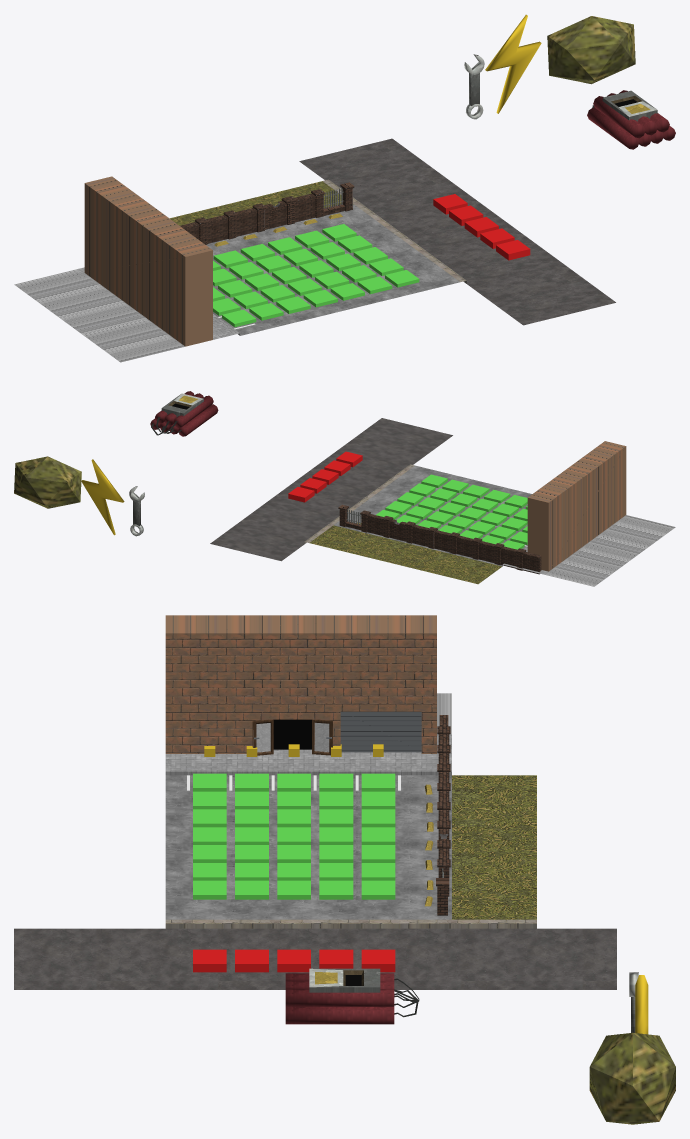
File: Patio.fbx
3 renders of one model, top to bottom at view 1: azimuth 30°, elevation 25°; view 2: azimuth 150°, elevation 25°; view 3: azimuth 270°, elevation 25°, orthographic. The views are drawn at different scales.
Visible parts, largest first — view 1: Plane, Plane.001, Cuspe, Explosivo, Energia, Boca e Estria; view 2: Plane, Plane.001, Cuspe, Explosivo, Energia, Boca e Estria; view 3: Plane, Plane.001, Cuspe, Explosivo, Cube.030, Cube.037, Cube.024, Energia, Cube.011.
Part boxes in pixels (x1,y1,x2,y2): Plane: (14, 138, 615, 362); Plane.001: (84, 176, 212, 346); Cuspe: (547, 16, 635, 84); Explosivo: (587, 90, 675, 149); Energia: (485, 14, 541, 113); Boca e Estria: (464, 54, 484, 119); Plane: (210, 418, 675, 586); Plane.001: (527, 441, 626, 571); Cuspe: (14, 456, 81, 508); Explosivo: (150, 391, 218, 436); Energia: (81, 459, 124, 535); Boca e Estria: (129, 486, 144, 536); Plane: (14, 693, 616, 989); Plane.001: (165, 615, 436, 753); Cuspe: (589, 1032, 675, 1124); Explosivo: (285, 968, 419, 1024); Cube.030: (235, 949, 268, 972); Cube.037: (193, 949, 226, 972); Cube.024: (277, 949, 310, 972); Energia: (635, 975, 648, 1034); Cube.011: (361, 949, 395, 972).
Bounding box in the file's own units: 1192 × 175 × 740.
Materials: 4 (1 with a texture image).
